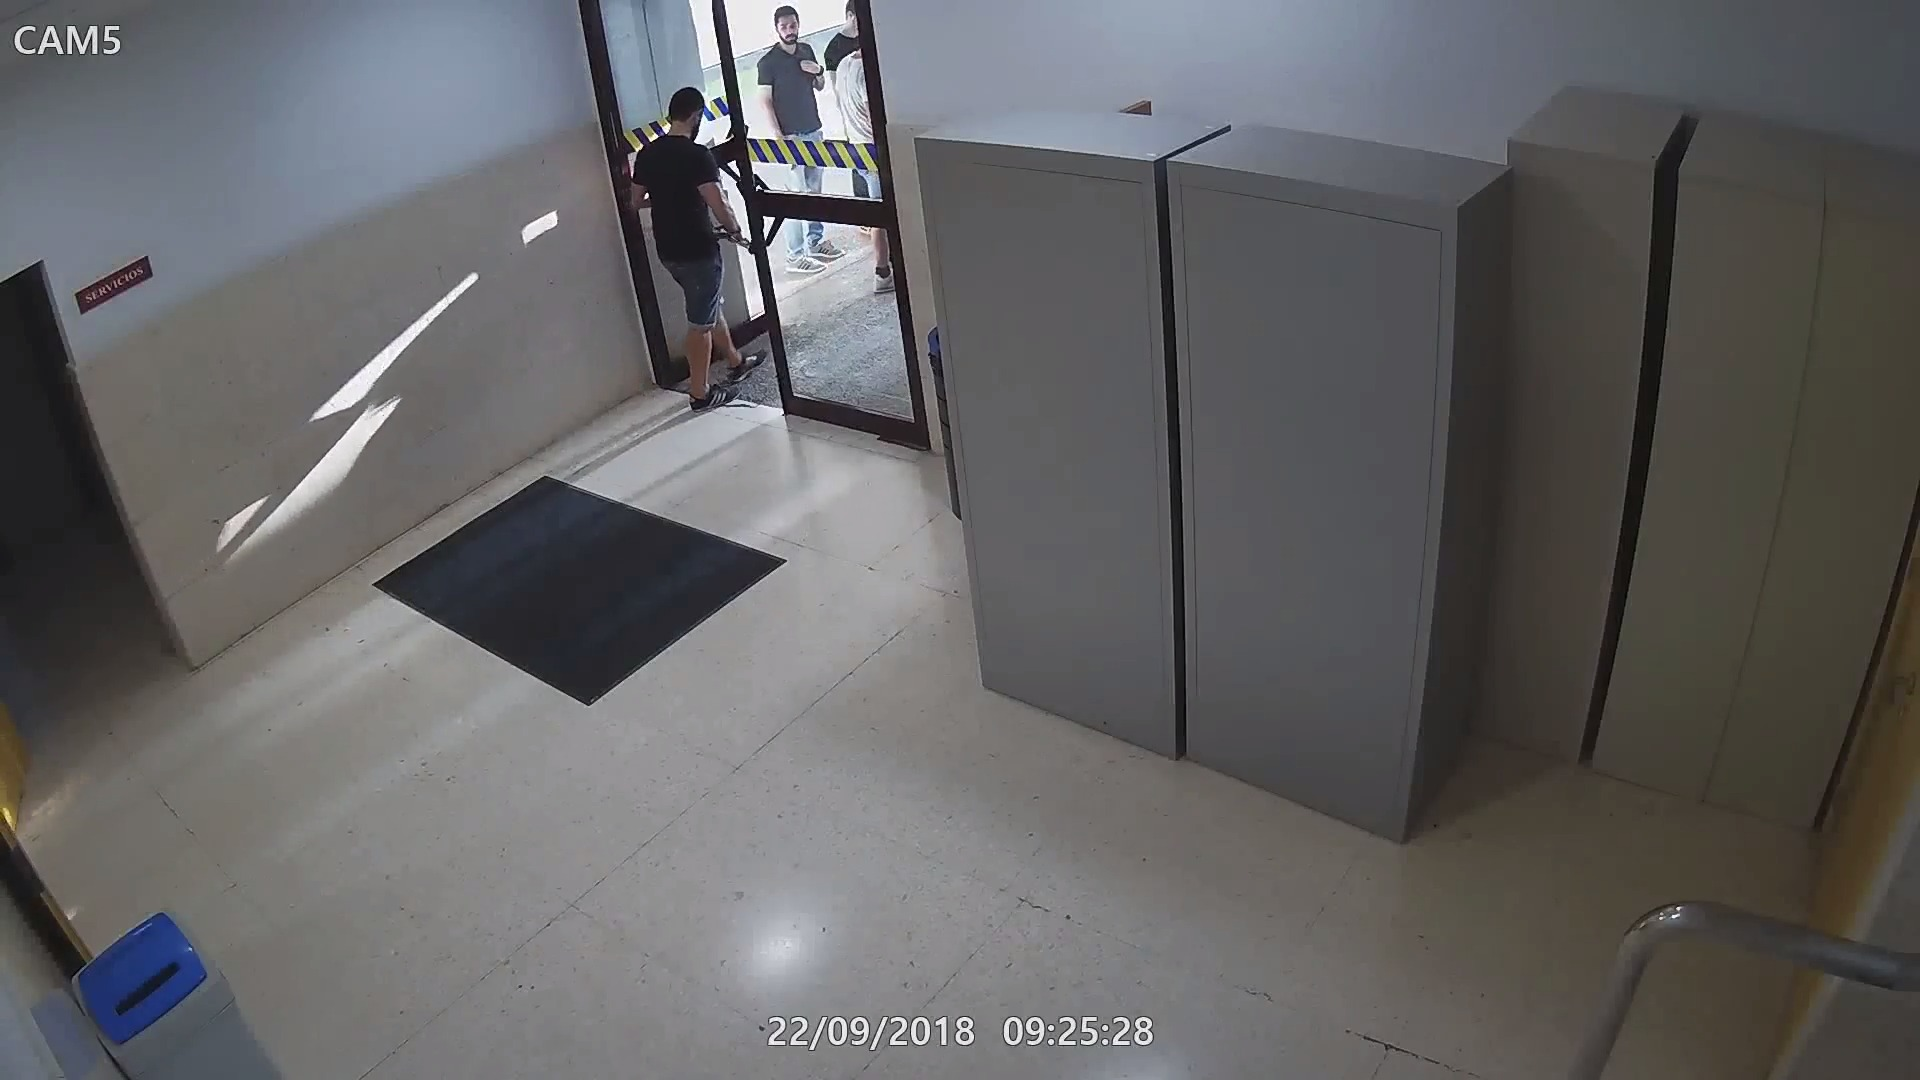Handgun: (711, 223, 757, 252)
